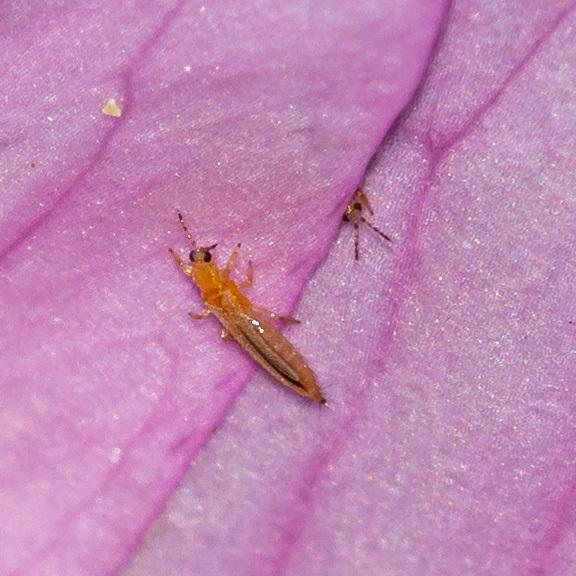tiny_pests: (128, 184, 369, 431)
